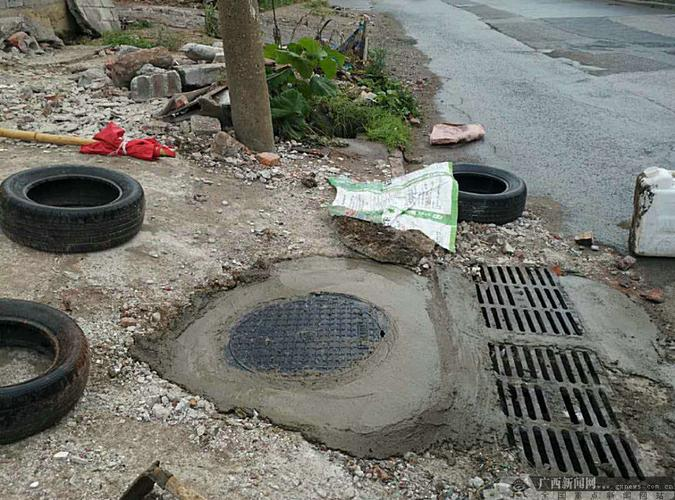good: (131, 254, 480, 457), (462, 260, 666, 483)
